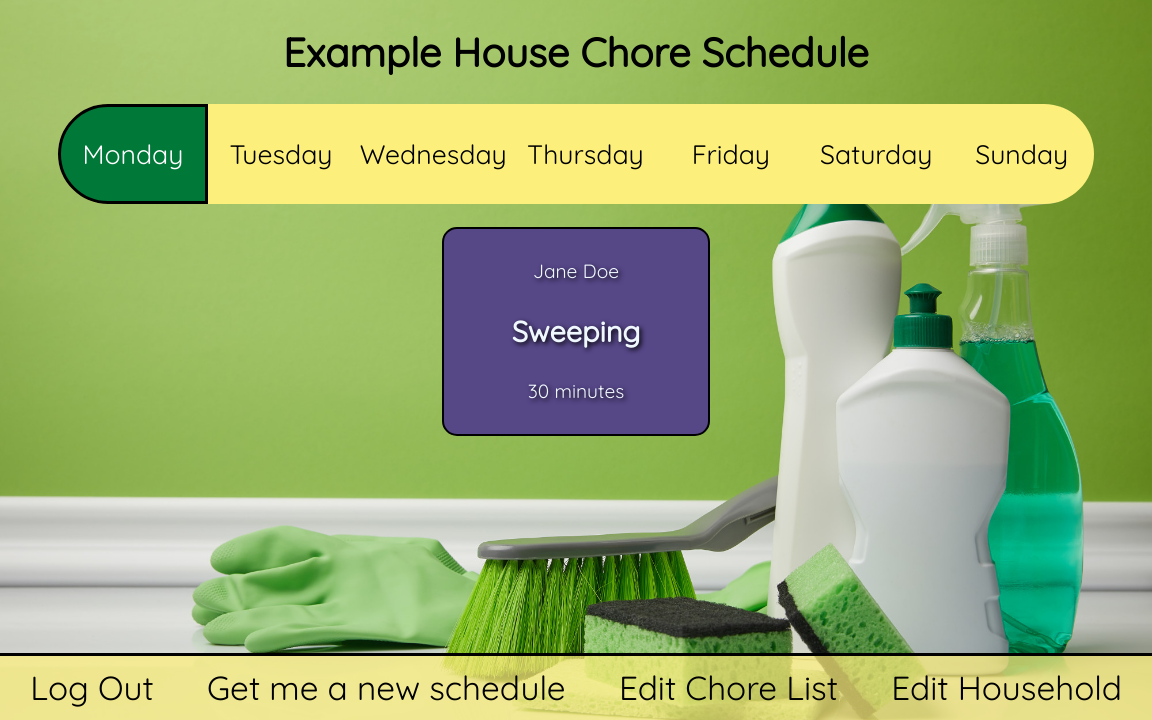
Test case: dashboard › should show a message if no chores are given for the day
The image size is (1152, 720).
Click the button with class "tuesday".
click(281, 154)  # box [208,104,353,204]
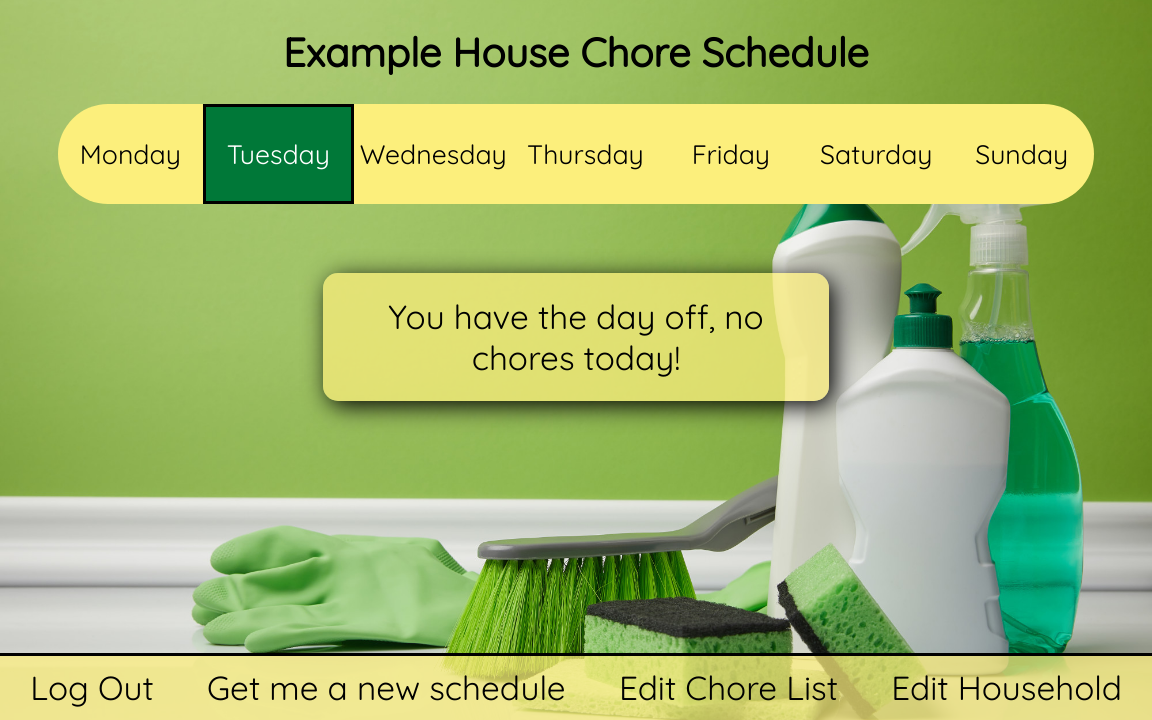
Result: the text "You have the day off, no chores today!" is shown at [323,273,830,401]
